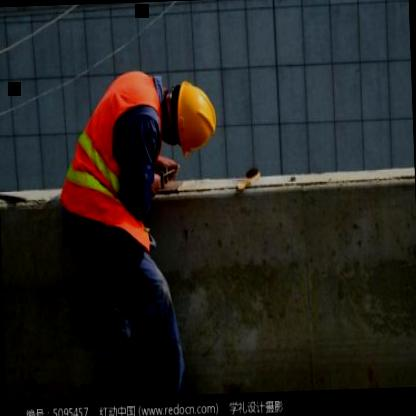helmet: (168, 83, 220, 154)
